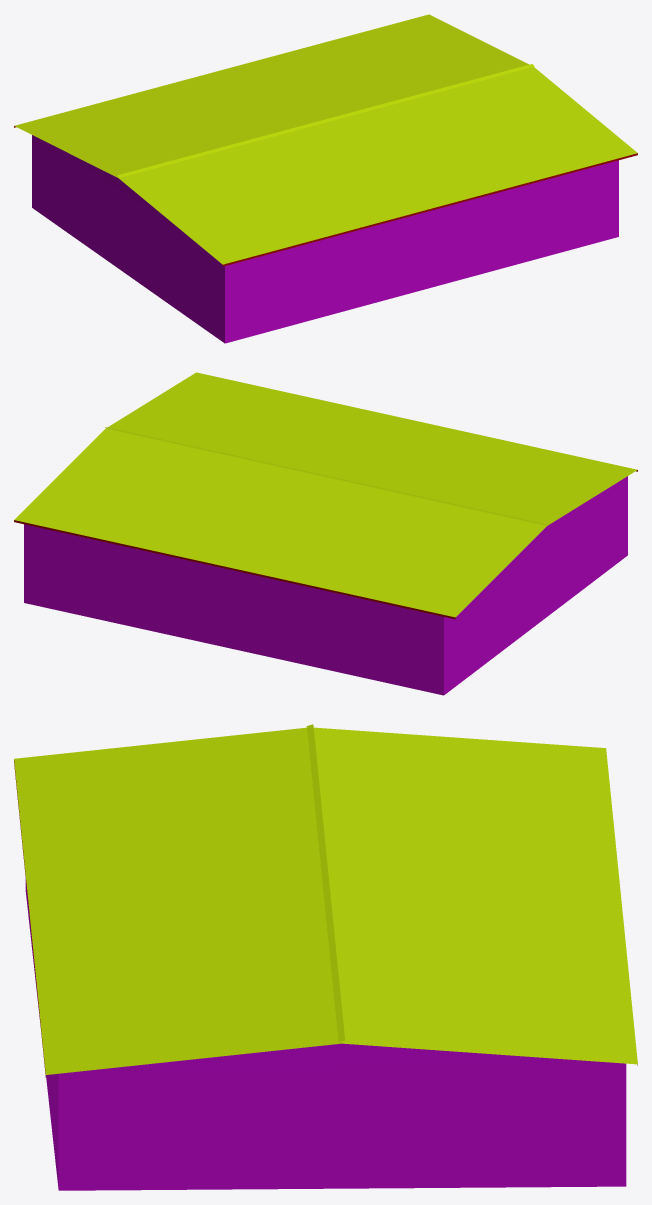
File: scl_105.glb
The picture shows the model from 3 angles, top to bottom: view 1: azimuth 30°, elevation 25°; view 2: azimuth 150°, elevation 25°; view 3: azimuth 270°, elevation 25°; orthographic projection. The views are drawn at different scales.
Parts seen in each view (by area): view 1: scl_105; view 2: scl_105; view 3: scl_105.
Part boxes in pixels (left/top/right/bottom): scl_105: left=14, top=14, right=637, bottom=343; scl_105: left=14, top=372, right=637, bottom=695; scl_105: left=14, top=724, right=637, bottom=1190.
Size of the model in its own units: 27.85 by 6.19 by 22.46.
